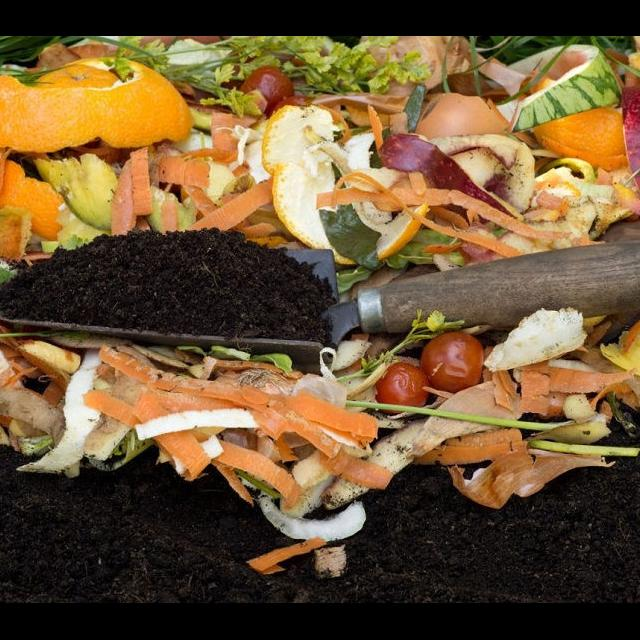food_waste: (0, 461, 252, 602), (249, 116, 459, 246), (36, 249, 309, 338), (365, 487, 554, 604), (401, 231, 640, 323), (0, 56, 195, 155), (137, 351, 383, 422), (379, 113, 555, 211), (545, 458, 640, 603), (414, 175, 632, 237), (538, 52, 640, 170), (493, 37, 614, 129), (476, 301, 582, 375), (253, 520, 367, 582), (0, 336, 95, 408), (254, 490, 372, 543), (406, 83, 511, 140), (601, 70, 640, 199), (431, 317, 487, 393), (233, 59, 298, 123), (372, 367, 426, 410), (612, 311, 640, 377)
